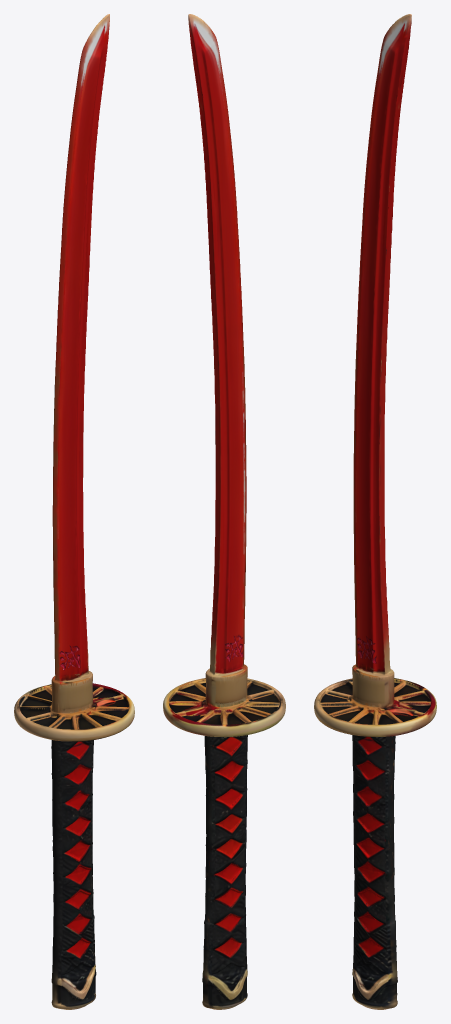
File: YoriichiKatana.fbx
3 views of the same model, side by side, from view 1: azimuth 30°, elevation 25°; view 2: azimuth 210°, elevation 25°; view 3: azimuth 330°, elevation 25° (orthographic).
Parts seen in each view (by area): view 1: YoriichiKatana; view 2: YoriichiKatana; view 3: YoriichiKatana.
Part boxes in pixels (x1,y1,x2,y2): YoriichiKatana: (14, 14, 134, 1009); YoriichiKatana: (163, 14, 285, 1009); YoriichiKatana: (314, 14, 436, 1009).
Size of the model in its own units: 13.36 by 120 by 13.23.
Materials: 1 (1 with a texture image).
